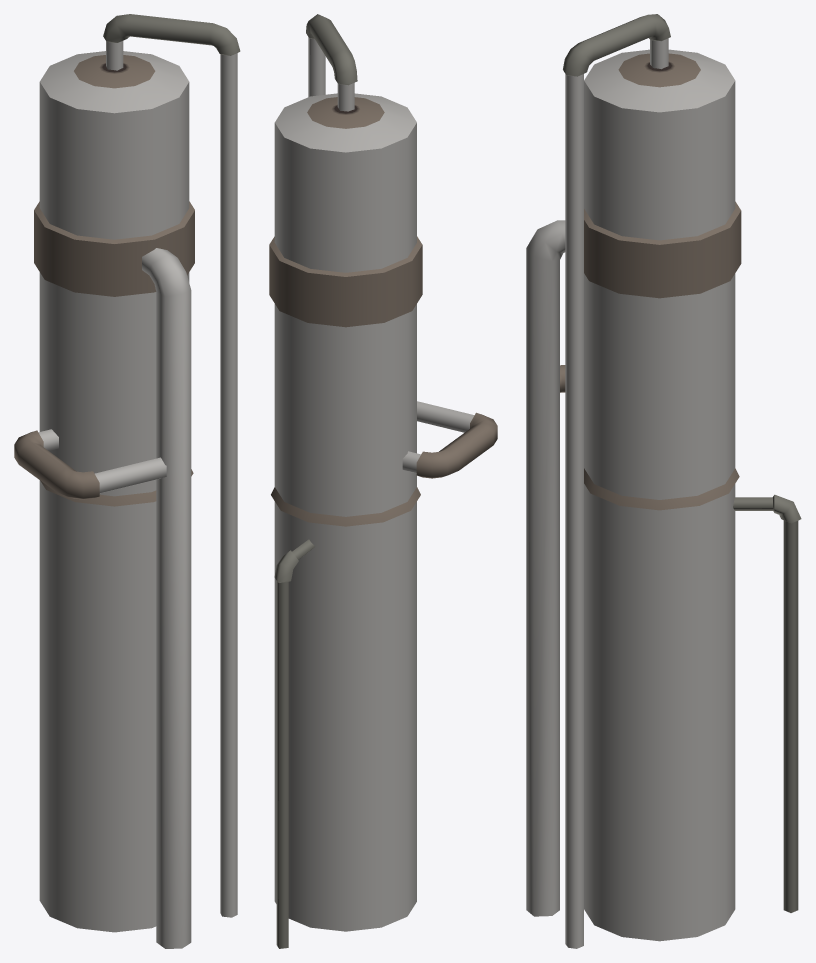
File: tanklong1.fbx
3 renders of one model, left to right at view 1: azimuth 30°, elevation 25°; view 2: azimuth 150°, elevation 25°; view 3: azimuth 270°, elevation 25°, orthographic. The views are drawn at different scales.
Visible parts, largest first — view 1: tanklong1; view 2: tanklong1; view 3: tanklong1.
Boxes of the visible parts, x1,y1,x2,y2 form: tanklong1: (14,14,240,948); tanklong1: (269,14,497,948); tanklong1: (526,14,801,948).
Size of the model in its own units: 436 by 1954 by 542.
